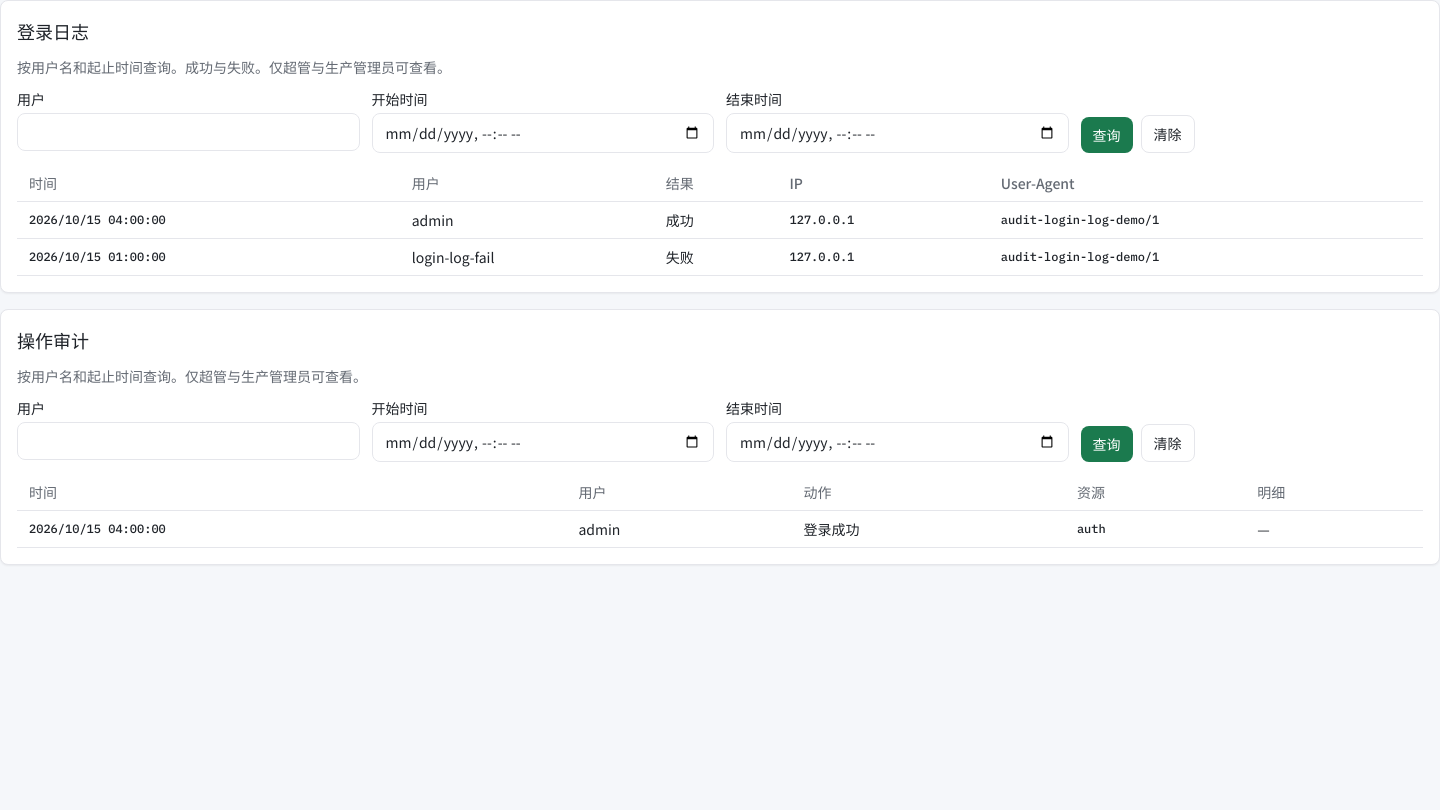
Test: AuditView › drops the login table when the start is after the end
The width and height of the screenshot is (1440, 810).
Expected: the table with test id "login-log-table" is shown, x1=17 y1=165 x2=1423 y2=276
Type "2026-10-15T18:00" into the field with test id "login-log-from".
click(543, 133); type("2026-10-15T18:00")  # box x1=372 y1=113 x2=714 y2=153
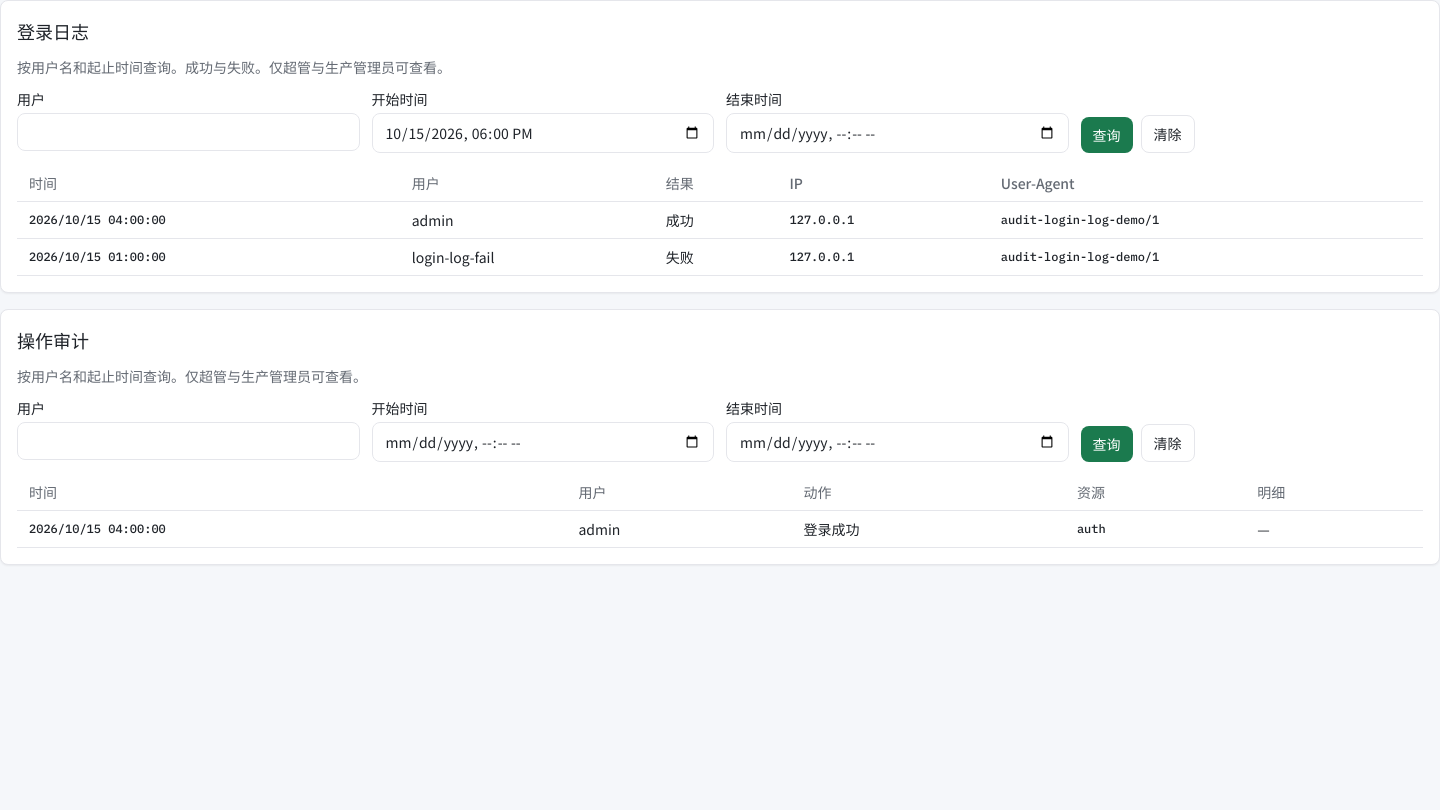
Type "2026-10-15T08:00" into the field with test id "login-log-to".
click(897, 133); type("2026-10-15T08:00")  # box x1=726 y1=113 x2=1068 y2=153
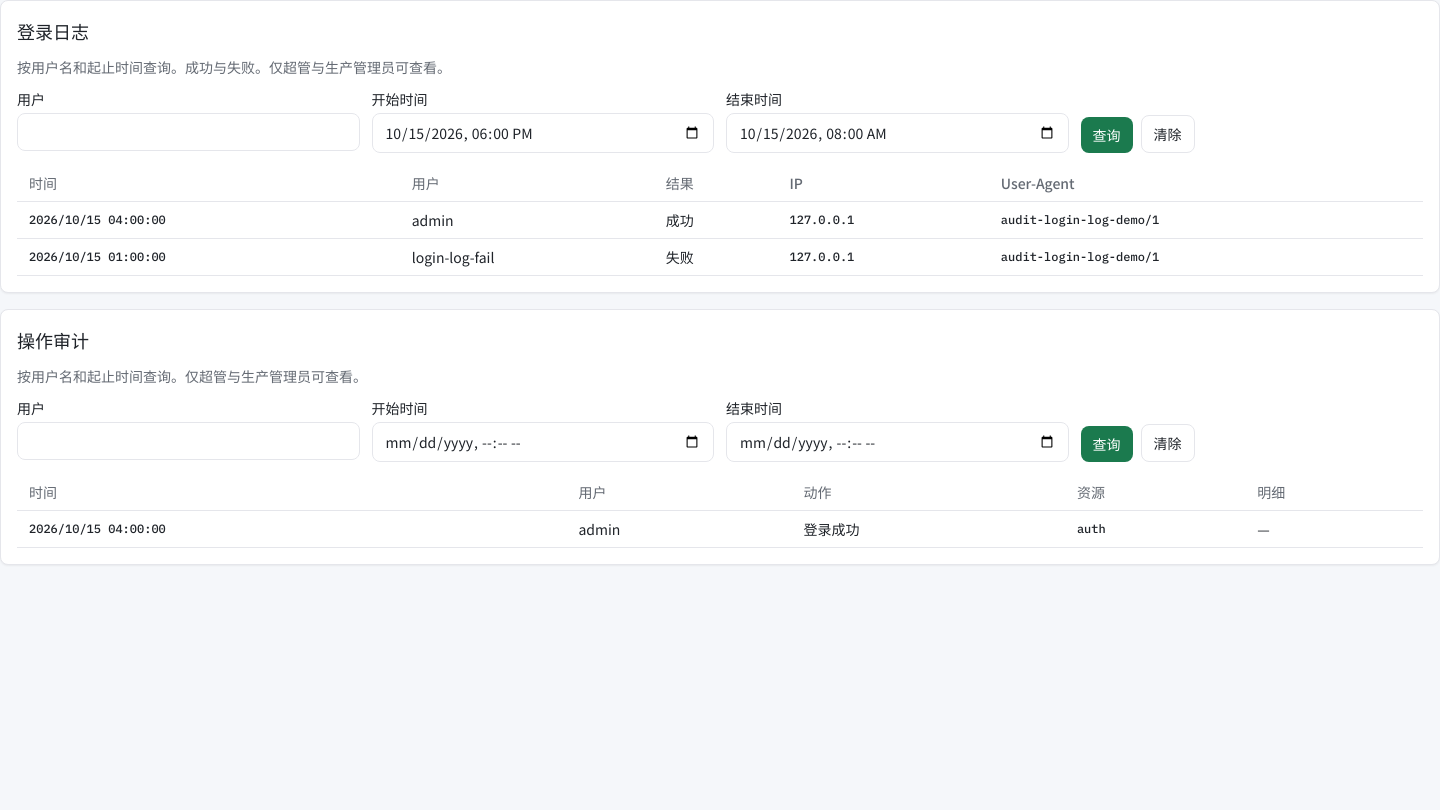
Submit the form with test id "login-log-filters", box x1=17 y1=89 x2=1194 y2=153
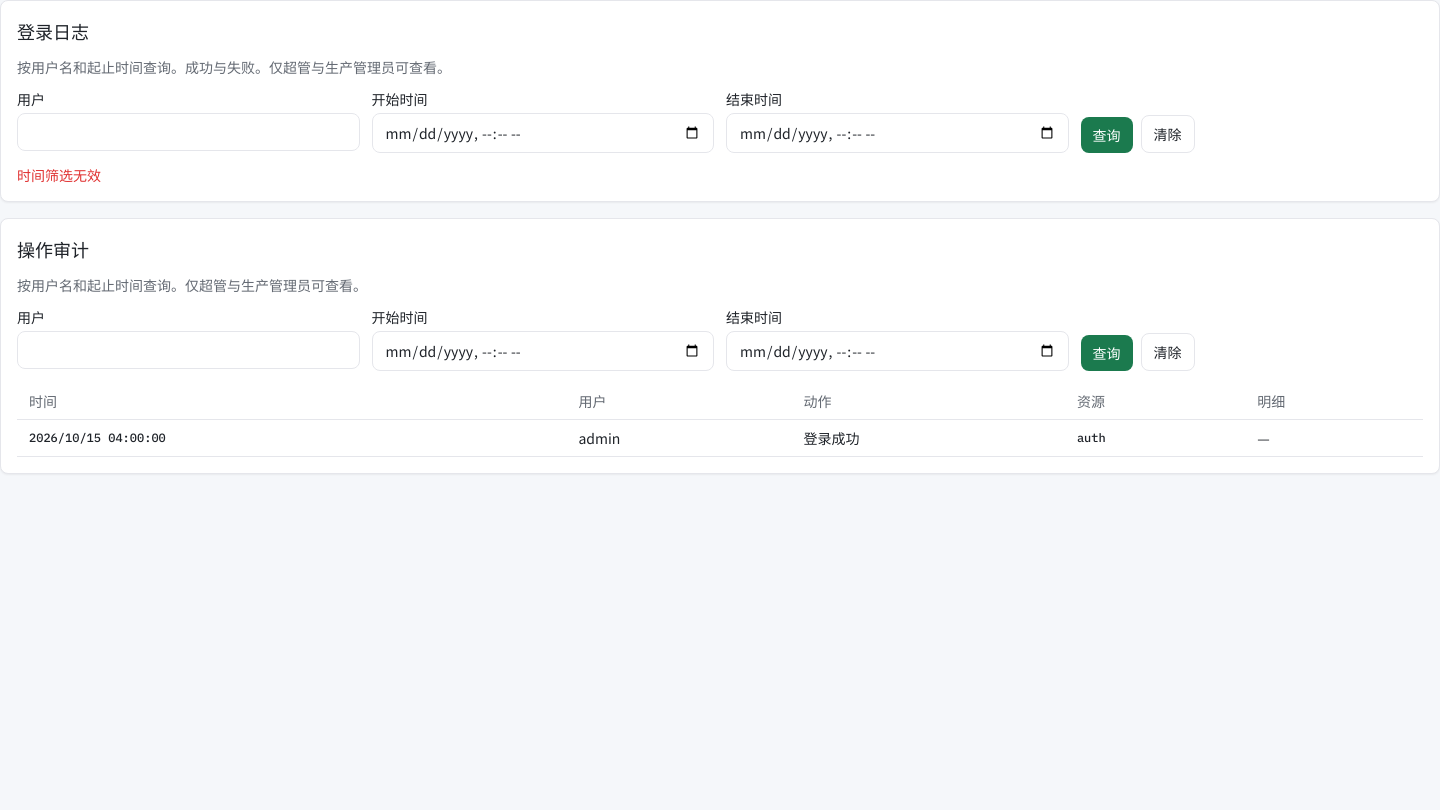
Expected: the table with test id "audit-log-table" shows "登录成功", x1=804 y1=428 x2=860 y2=448
Result: the text with test id "login-log-time-error" reads "时间筛选无效" at x1=17 y1=165 x2=101 y2=185
